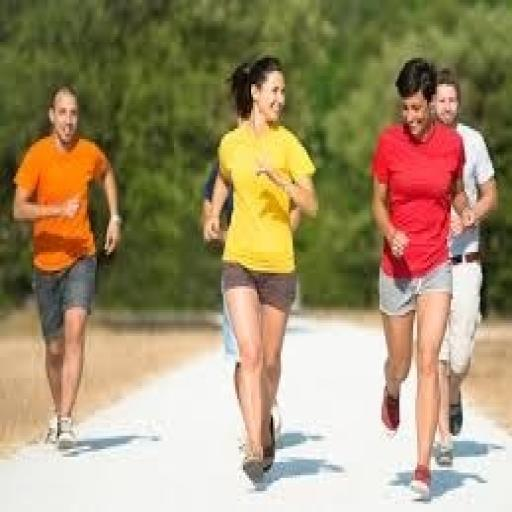running: (204, 52, 322, 486), (368, 55, 470, 504), (10, 82, 124, 452), (431, 66, 502, 470)
